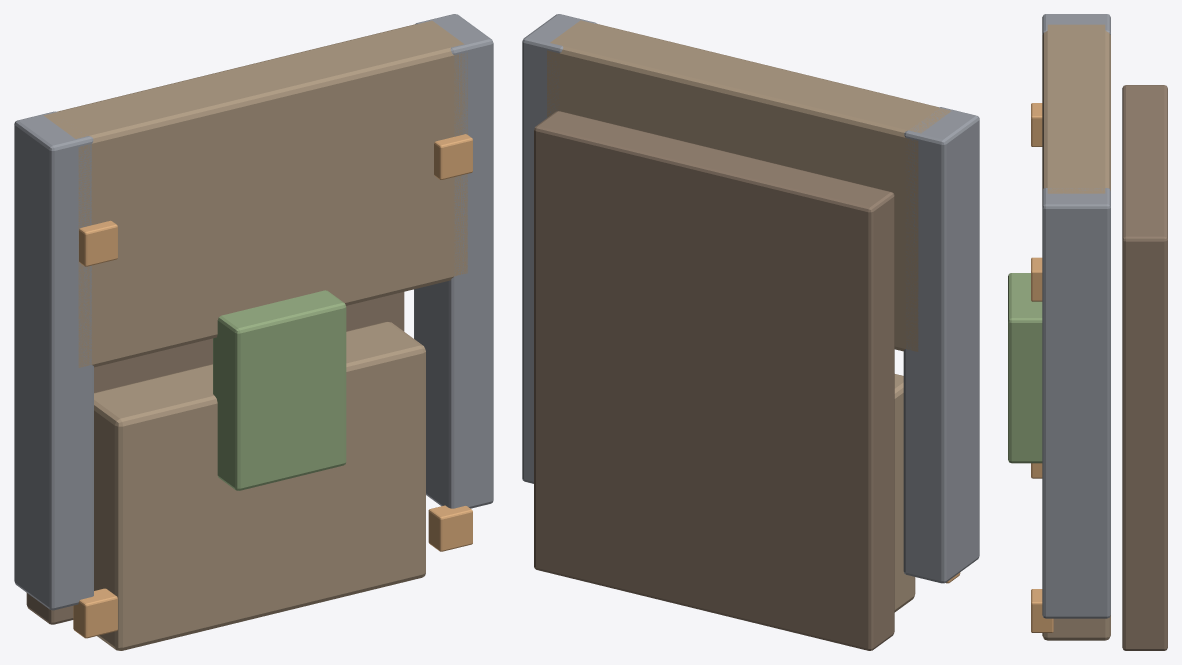
Rendered from shield_bogiron.glb.
3 views of the same model, side by side, from view 1: azimuth 30°, elevation 25°; view 2: azimuth 150°, elevation 25°; view 3: azimuth 270°, elevation 25° (orthographic). The views are drawn at different scales.
Visible parts, largest first — view 1: Face_top, Face_bot, Rim_L, Rim_R, Crest, Back, Stud_3, Stud_2, Stud_0, Stud_1; view 2: Back, Face_top, Rim_L, Rim_R, Face_bot; view 3: Rim_R, Back, Face_top, Crest, Face_bot, Rim_L, Stud_3, Stud_1, Stud_0.
Part boxes in pixels (x1,y1,x2,y2): Face_top: [43, 20, 467, 367]; Face_bot: [94, 321, 425, 650]; Rim_L: [14, 111, 93, 610]; Rim_R: [414, 14, 493, 508]; Crest: [213, 290, 346, 490]; Back: [26, 292, 404, 624]; Stud_3: [428, 505, 472, 551]; Stud_2: [73, 588, 117, 638]; Stud_0: [79, 220, 117, 266]; Stud_1: [434, 134, 472, 179]; Back: [534, 111, 894, 650]; Face_top: [547, 20, 950, 351]; Rim_L: [903, 107, 979, 583]; Rim_R: [522, 14, 597, 483]; Face_bot: [894, 374, 915, 612]; Rim_R: [1042, 188, 1110, 618]; Back: [1122, 85, 1167, 650]; Face_top: [1042, 24, 1110, 193]; Crest: [1008, 273, 1042, 463]; Face_bot: [1042, 615, 1110, 640]; Rim_L: [1042, 14, 1110, 34]; Stud_3: [1031, 589, 1053, 632]; Stud_1: [1031, 257, 1042, 301]; Stud_0: [1031, 103, 1042, 146].
Bounding box in the file's own units: 0.4 × 0.45 × 0.14.
